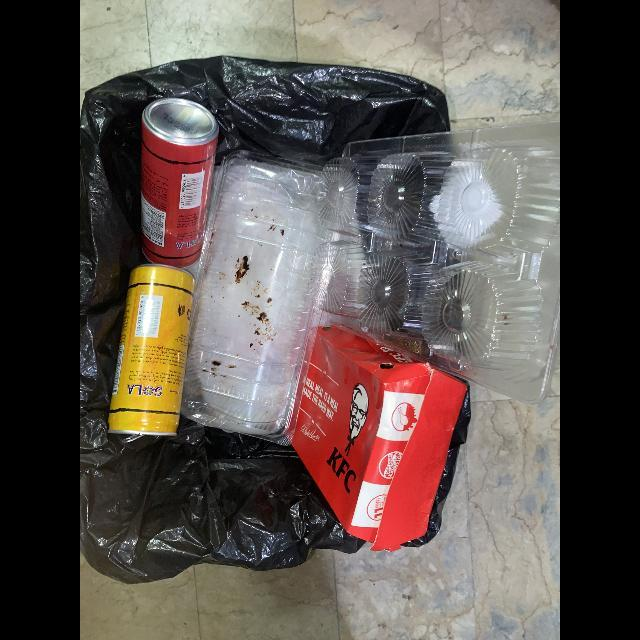metal: (107, 264, 194, 436), (140, 99, 220, 270)
paper: (286, 326, 469, 553)
plastic: (311, 122, 560, 405), (181, 153, 338, 440)
